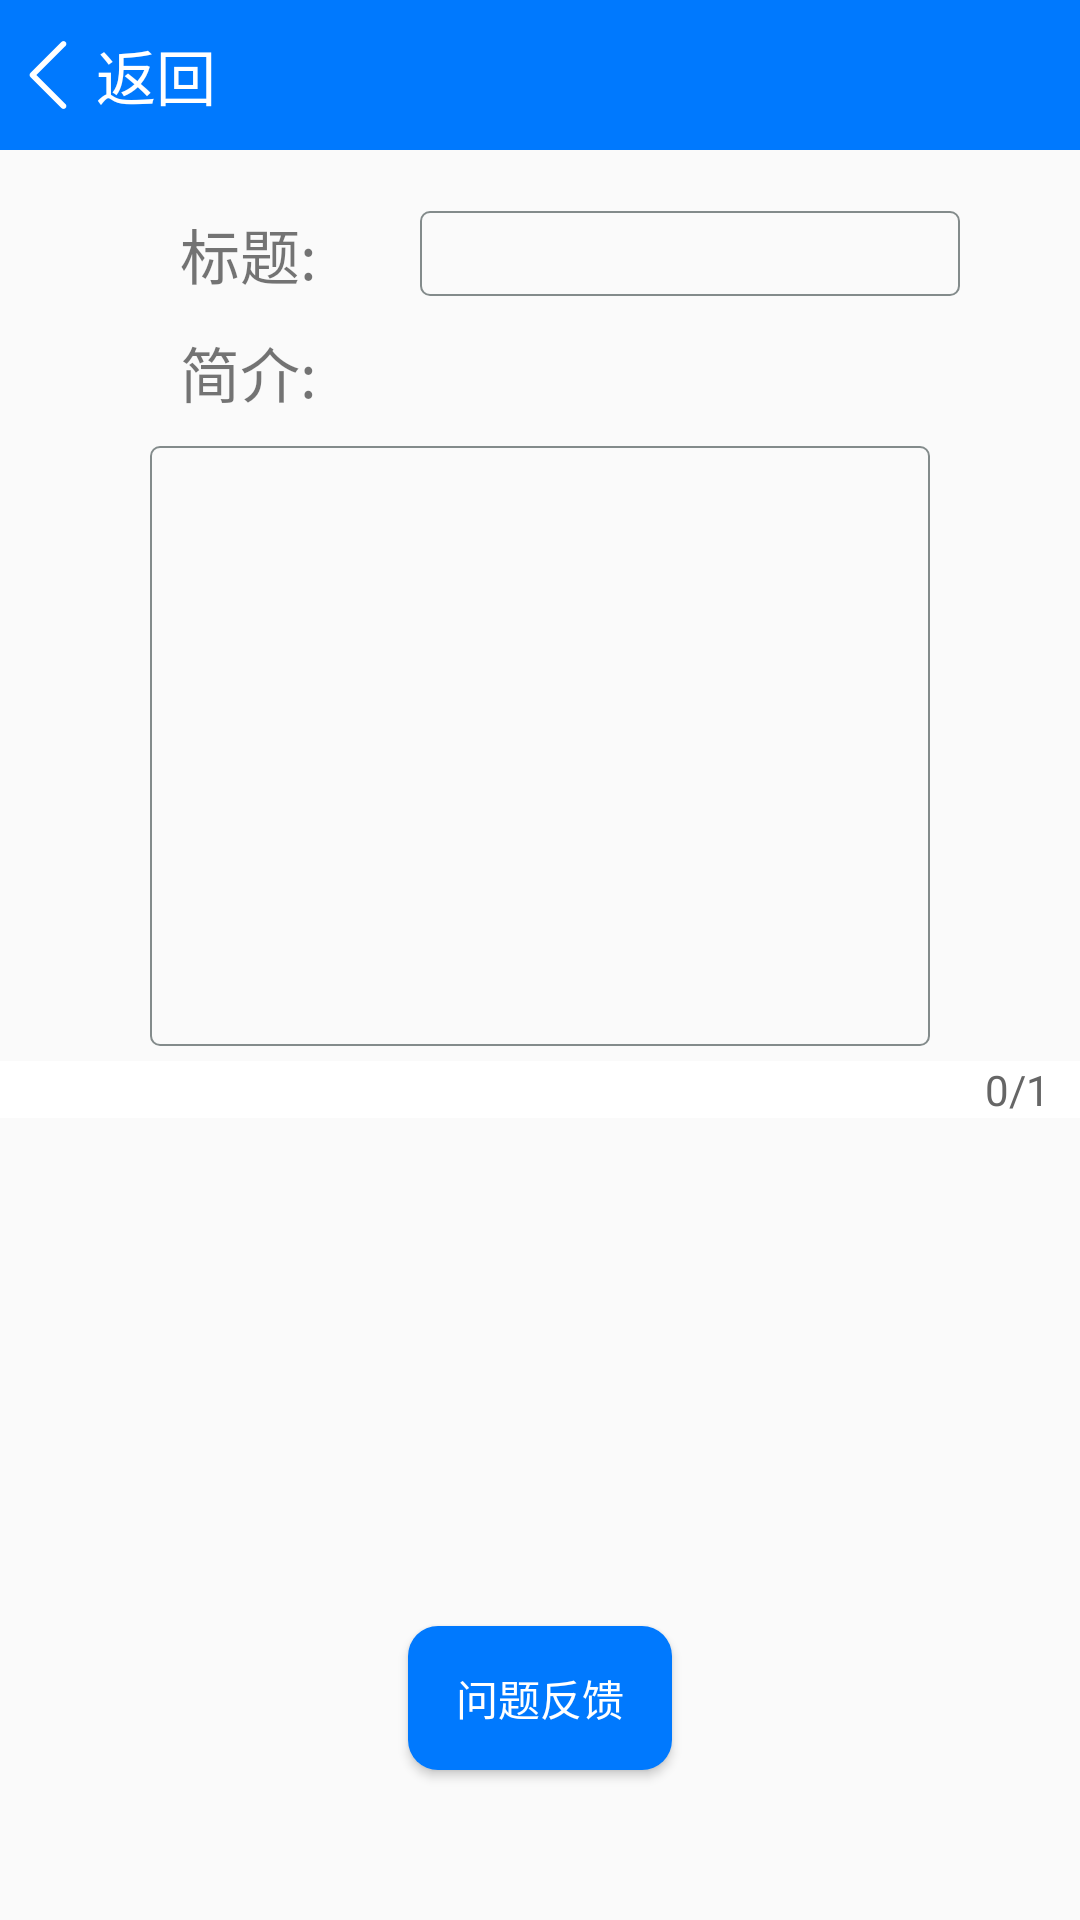

Screen size 1080x1920. Icon name, then its center in pixels as point (x, y):
left arrow: point (48, 75)
